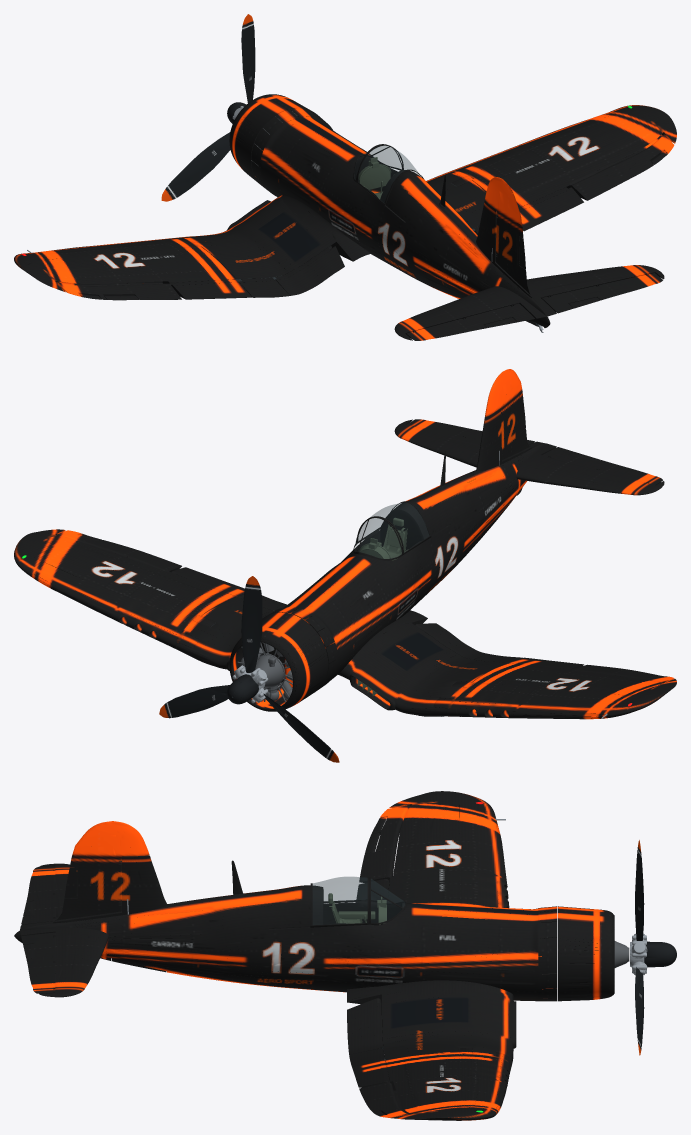
Rendered from aircraft_carbon.glb.
3 views of the same model, one above another, from view 1: azimuth 30°, elevation 25°; view 2: azimuth 150°, elevation 25°; view 3: azimuth 270°, elevation 25° (orthographic). The views are drawn at different scales.
Visible parts, largest first — view 1: fuselage_core, wing_right_fixed, wing_center_fixed, wing_left_fixed, stabilizer_fixed, elevator, cowl, propeller_rotor, rudder, aileron_right, canopy_glass, flap_left_1 (+6 smaller); view 2: fuselage_core, wing_center_fixed, wing_right_fixed, wing_left_fixed, cowl, propeller_rotor, stabilizer_fixed, rudder, elevator, canopy_glass, engine_face, windshield_glass (+6 smaller); view 3: fuselage_core, wing_left_fixed, wing_center_fixed, wing_right_fixed, cowl, rudder, stabilizer_fixed, elevator, propeller_rotor, canopy_glass, fin_fixed, aileron_left (+7 smaller).
Boxes of the visible parts, x1,y1,x2,y2 form: fuselage_core: (259, 116, 550, 327); wing_right_fixed: (452, 105, 676, 207); wing_center_fixed: (179, 170, 486, 279); wing_left_fixed: (14, 237, 235, 292); stabilizer_fixed: (394, 265, 664, 340); elevator: (406, 273, 662, 340); cowl: (229, 94, 332, 195); propeller_rotor: (161, 14, 255, 201); rudder: (485, 177, 529, 293); aileron_right: (570, 134, 674, 200); canopy_glass: (358, 146, 418, 202); flap_left_1: (275, 246, 344, 295); fuselage_core: (260, 443, 546, 687); wing_center_fixed: (175, 597, 506, 716); wing_right_fixed: (14, 529, 235, 649); wing_left_fixed: (446, 663, 676, 719); cowl: (229, 607, 337, 711); propeller_rotor: (159, 576, 339, 762); stabilizer_fixed: (394, 419, 664, 495); rudder: (485, 369, 530, 459); elevator: (407, 419, 662, 485); canopy_glass: (359, 502, 428, 551); engine_face: (237, 642, 292, 702); windshield_glass: (354, 518, 401, 558); fuselage_core: (14, 860, 541, 1001); wing_left_fixed: (387, 791, 509, 908); wing_center_fixed: (347, 980, 516, 1065); wing_right_fixed: (385, 1053, 511, 1120); cowl: (538, 906, 614, 1001); rudder: (55, 821, 149, 920); stabilizer_fixed: (20, 863, 108, 997); elevator: (21, 866, 55, 993); propeller_rotor: (630, 840, 676, 1055); canopy_glass: (313, 877, 367, 924); fin_fixed: (53, 855, 167, 923); aileron_left: (359, 805, 410, 882).
Size of the model in its own units: 2.78 by 0.7704 by 2.38.
15 materials, 6 textured.
